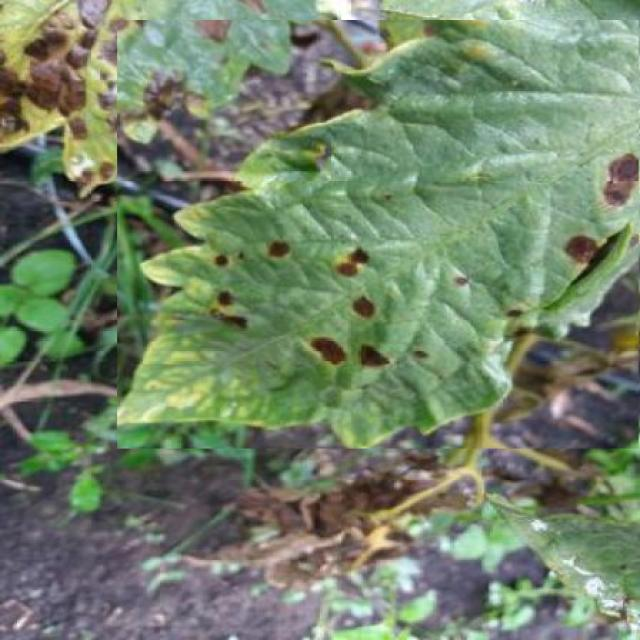Early Blight: (117, 21, 639, 448)
